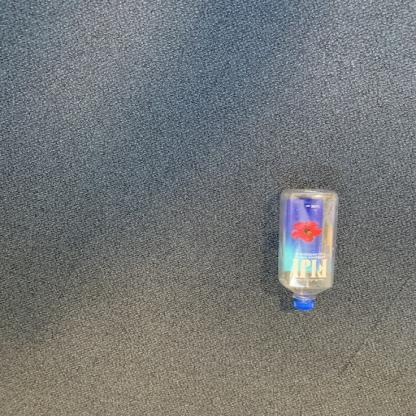trash: (277, 185, 342, 314)
